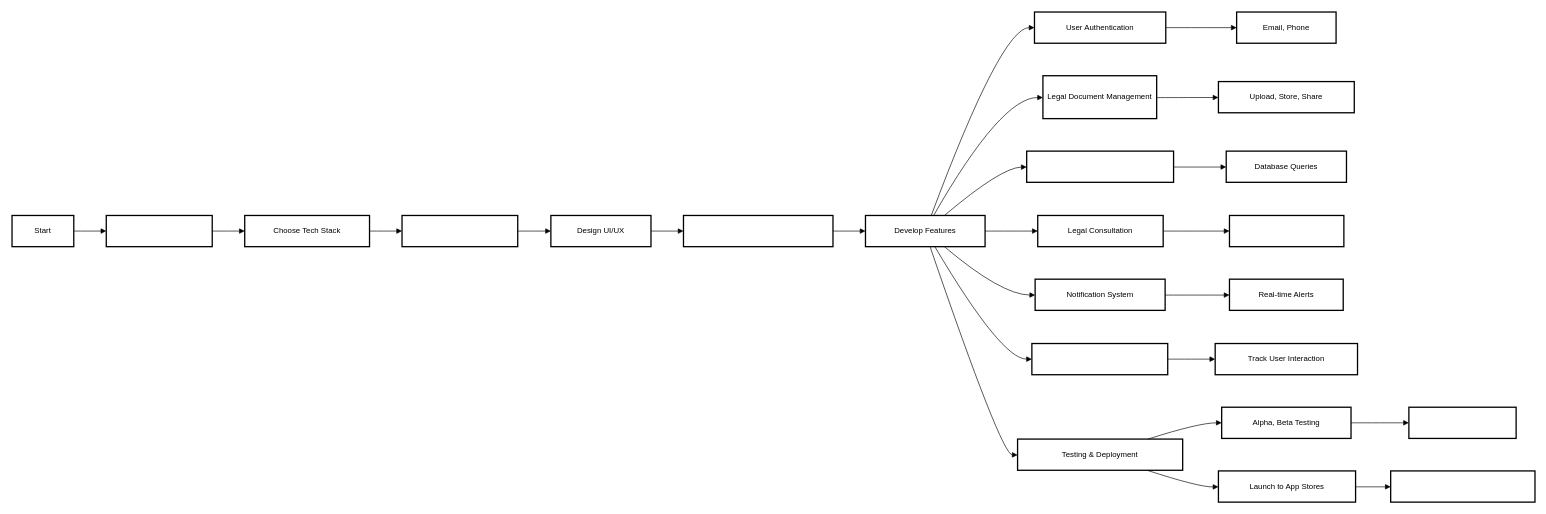
The diagram is 1546 pixels wide and 514 high, and some of its shapes have lost their labels. The centre of each missing label's shape, as x and y in pixels:
"Analytics Integration" belongs at point (1099, 359).
"Chat, Video Call" belongs at point (1286, 230).
"Define Project" belongs at point (159, 230).
"Flutter, Firebase" belongs at point (459, 230).
"Google Play, App Store" belongs at point (1462, 486).
"Search Legal Resources" belongs at point (1100, 166).
"User Feedback" belongs at point (1462, 422).
"Wireframes, Prototypes" belongs at point (757, 230).
